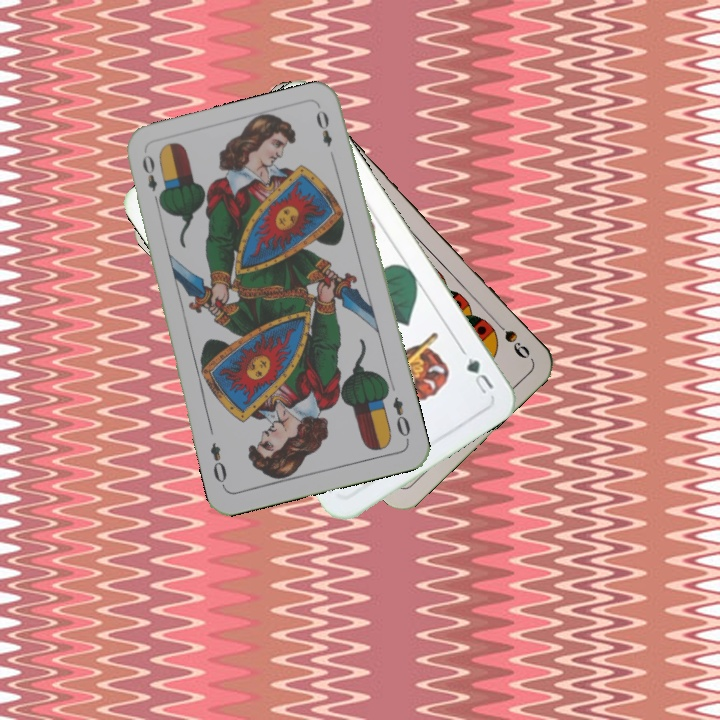EO: (138, 151, 165, 208), (388, 393, 413, 444)
GU: (462, 353, 497, 397)
S9: (488, 314, 533, 362)
